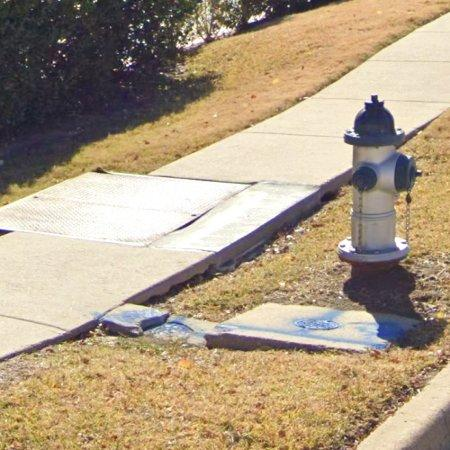a fire hydrant: (339, 95, 420, 267)
